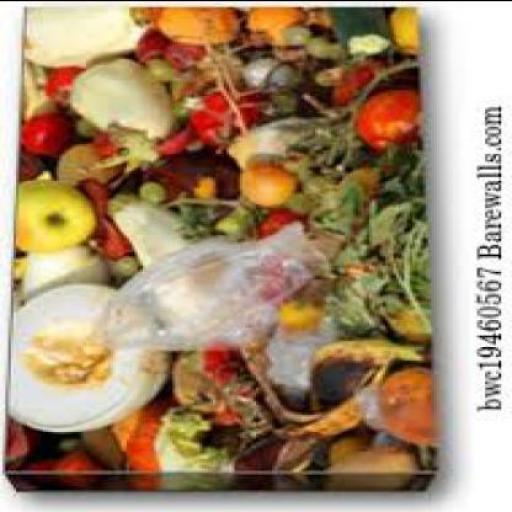biodegradable: (240, 340, 426, 490), (5, 284, 167, 437), (310, 141, 424, 338), (65, 60, 173, 143), (19, 10, 140, 69), (154, 410, 240, 491), (73, 177, 135, 288), (221, 116, 334, 172), (164, 348, 237, 432), (105, 193, 181, 271), (13, 180, 92, 254), (19, 241, 105, 305), (321, 434, 415, 488), (138, 152, 234, 200), (326, 60, 415, 110), (353, 90, 420, 154), (372, 369, 426, 448), (188, 91, 258, 150), (124, 404, 173, 488), (73, 182, 124, 262), (22, 60, 59, 162), (81, 130, 153, 178), (234, 160, 296, 210), (329, 9, 391, 56), (158, 8, 238, 44), (189, 349, 250, 394), (243, 8, 307, 50), (172, 199, 232, 239), (245, 58, 299, 97), (234, 435, 283, 477), (380, 302, 429, 344), (246, 205, 310, 237), (54, 450, 102, 489), (197, 46, 240, 88), (146, 122, 191, 162), (38, 66, 80, 106), (210, 208, 254, 246), (388, 9, 418, 56), (162, 40, 202, 72), (278, 302, 318, 334), (299, 174, 340, 205), (135, 33, 167, 65), (278, 25, 318, 50), (16, 143, 41, 182), (304, 34, 336, 64), (259, 90, 291, 120), (167, 72, 202, 98), (172, 91, 200, 122), (140, 56, 172, 83), (24, 457, 56, 483), (270, 42, 307, 64), (280, 193, 312, 218), (132, 182, 162, 208), (105, 418, 129, 450), (272, 153, 304, 177), (310, 63, 340, 87), (230, 46, 266, 64), (127, 10, 156, 32), (54, 438, 84, 458), (304, 8, 326, 35), (194, 180, 218, 204), (70, 121, 89, 141), (10, 257, 24, 282)
